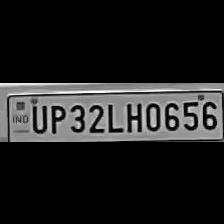0: (142, 98, 162, 132)
2: (86, 99, 104, 133)
3: (66, 99, 86, 133)
5: (180, 97, 198, 130)
6: (160, 98, 180, 132), (198, 96, 218, 130)
H: (122, 98, 142, 132)
L: (104, 98, 122, 132)
P: (46, 100, 66, 134)
U: (28, 100, 48, 132)
